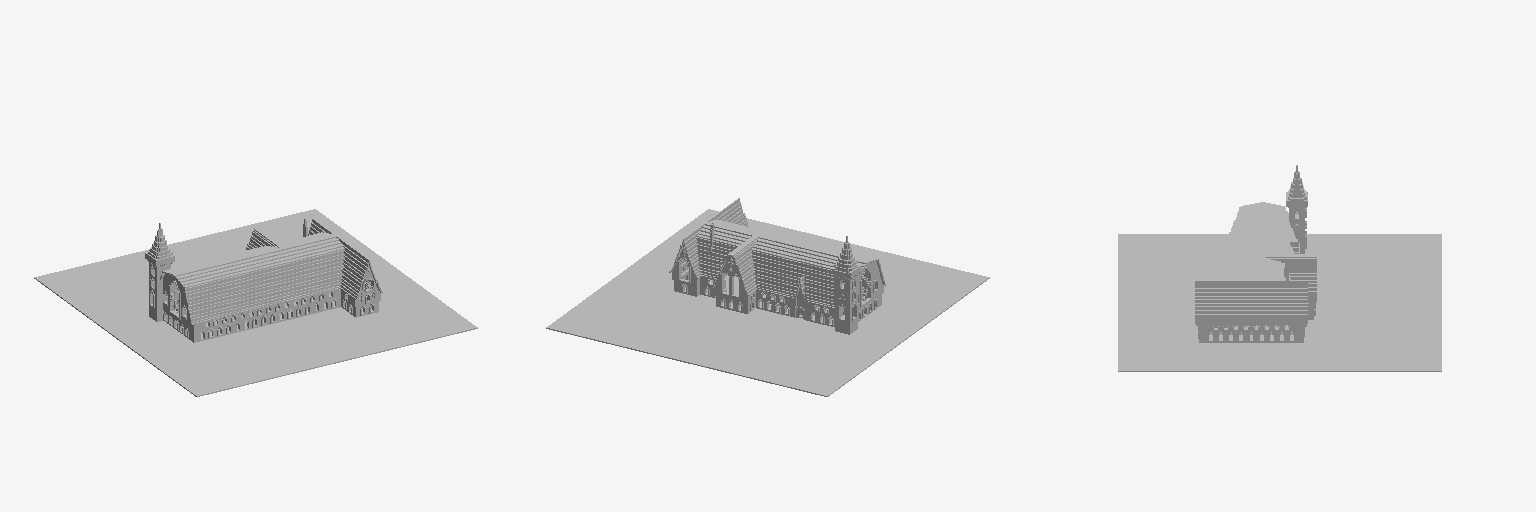
The model's file is Manor (No door and 2nd floor).obj.
3 renders of one model, left to right at view 1: azimuth 30°, elevation 25°; view 2: azimuth 150°, elevation 25°; view 3: azimuth 270°, elevation 25°, orthographic.
Visible parts, largest first — view 1: object 1; view 2: object 1; view 3: object 1.
Boxes of the visible parts, x1,y1,x2,y2 form: object 1: [34, 209, 477, 396]; object 1: [546, 198, 989, 396]; object 1: [1118, 165, 1441, 371].
Size of the model in its own units: 25.6 by 8.3 by 25.6.